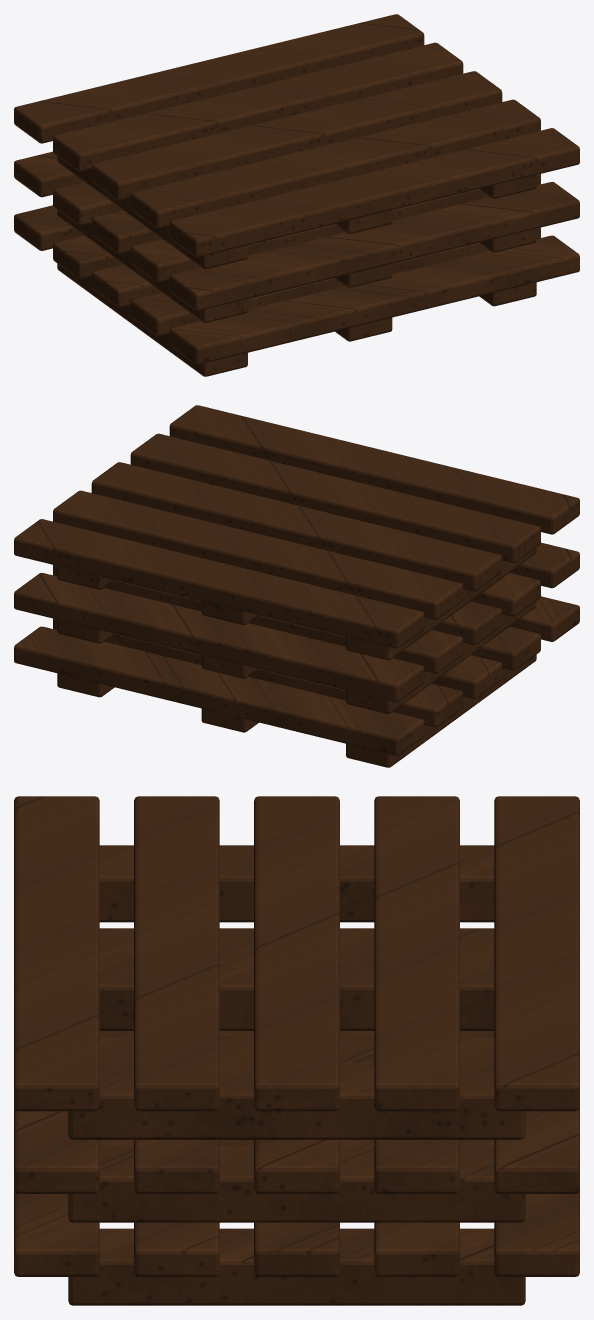
File: PROP-7E4D927A8681_lod0.glb
3 renders of one model, top to bottom at view 1: azimuth 30°, elevation 25°; view 2: azimuth 150°, elevation 25°; view 3: azimuth 270°, elevation 25°, orthographic. The views are drawn at different scales.
Visible parts, largest first — view 1: pallet_deck, pallet_feet; view 2: pallet_deck, pallet_feet; view 3: pallet_deck, pallet_feet.
Part boxes in pixels (left/top/right/bottom): pallet_deck: left=14, top=14, right=579, bottom=364; pallet_feet: left=57, top=156, right=536, bottom=376; pallet_deck: left=14, top=405, right=579, bottom=755; pallet_feet: left=57, top=547, right=536, bottom=767; pallet_deck: left=14, top=796, right=579, bottom=1276; pallet_feet: left=68, top=845, right=525, bottom=1305.
Size of the model in its own units: 1.2 by 0.4675 by 0.99.
Materials: 1 (1 with a texture image).
